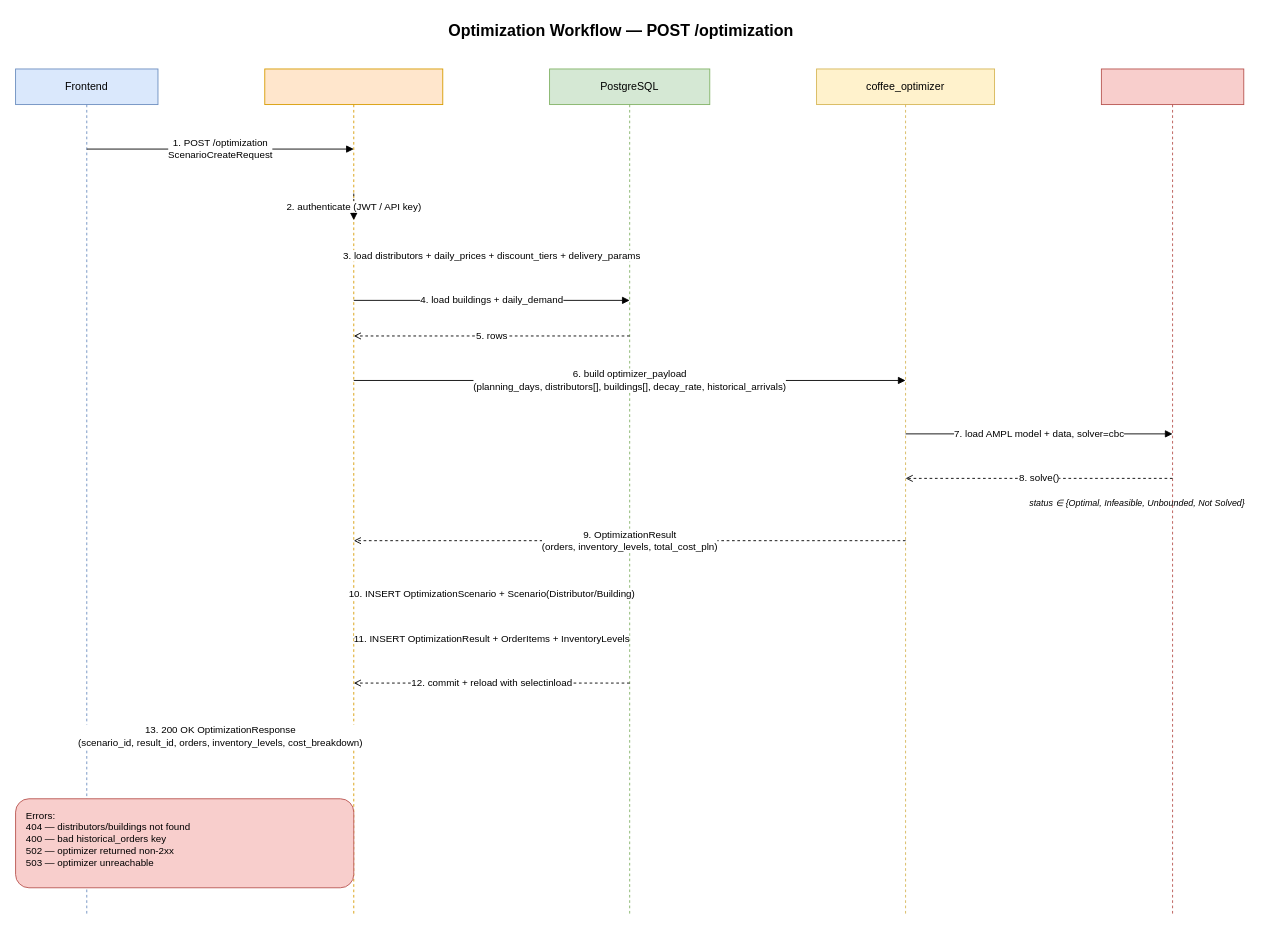
This 1277x930 diagram has some shape labels left out. The box of each missing label's shape, as (x1, y1, x2, y2) in pixels:
AMPL / CBC: (1100, 68, 1244, 914)
coffee_manager: (264, 68, 443, 914)
